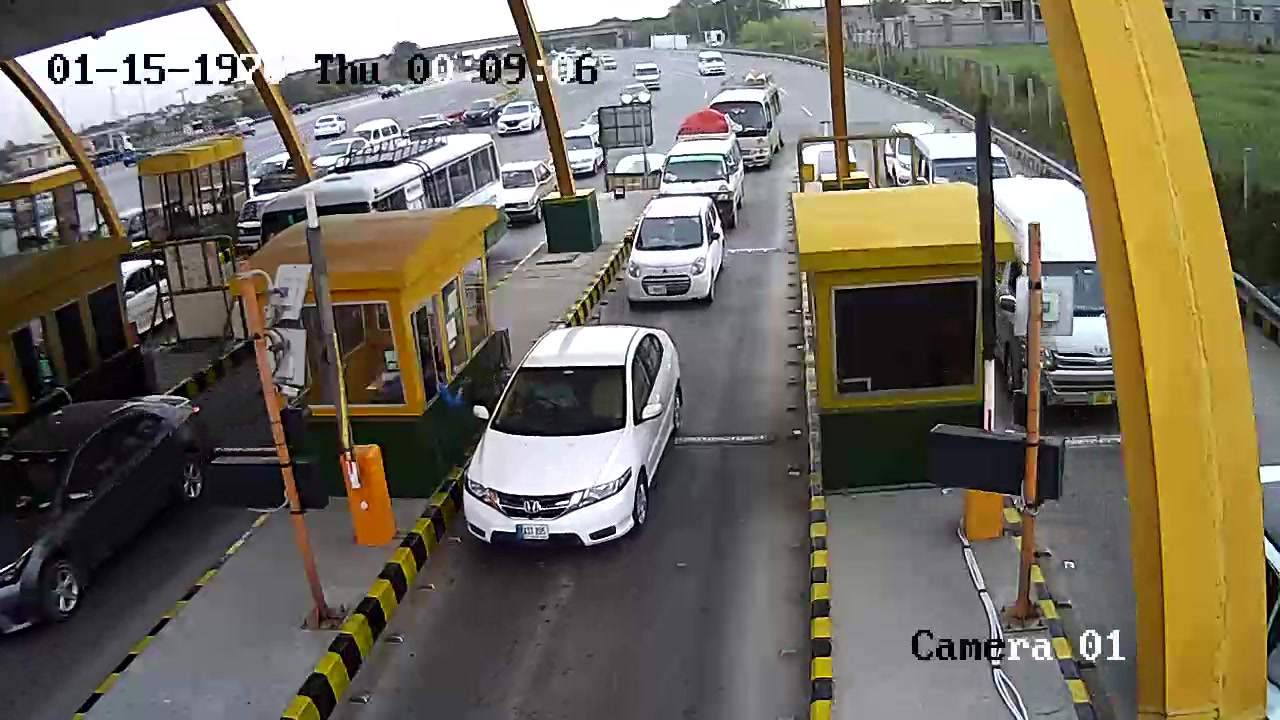F1: (458, 310, 692, 585), (617, 197, 731, 315)
